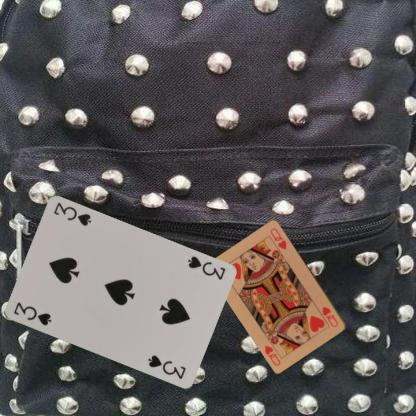3s: (10, 299, 52, 327), (184, 253, 226, 281)
Qh: (320, 304, 340, 329)
